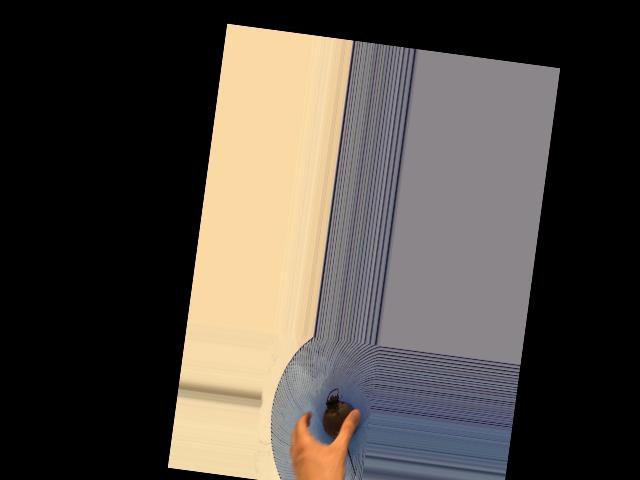beet: (316, 386, 367, 475)
